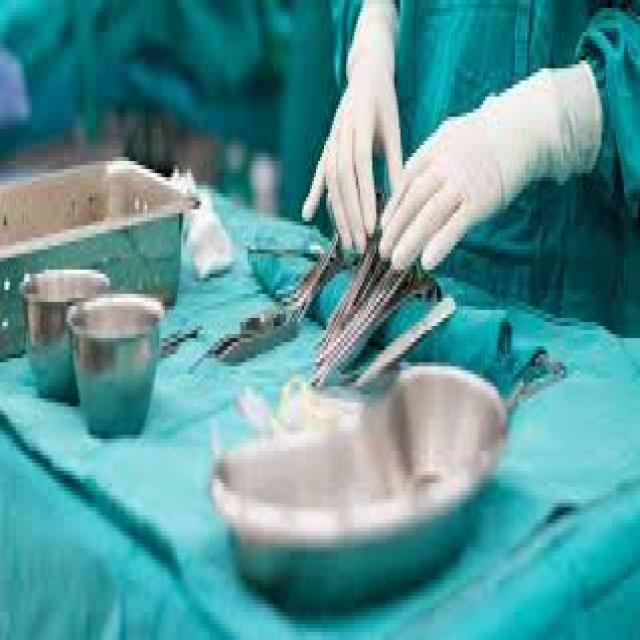tools_table: (0, 282, 616, 640)
